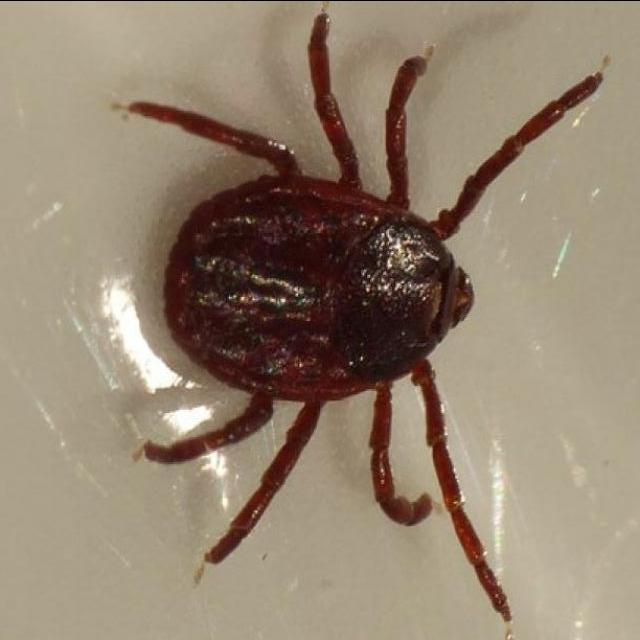Rhipicephalus Sanguineus-F: (125, 13, 603, 622)
